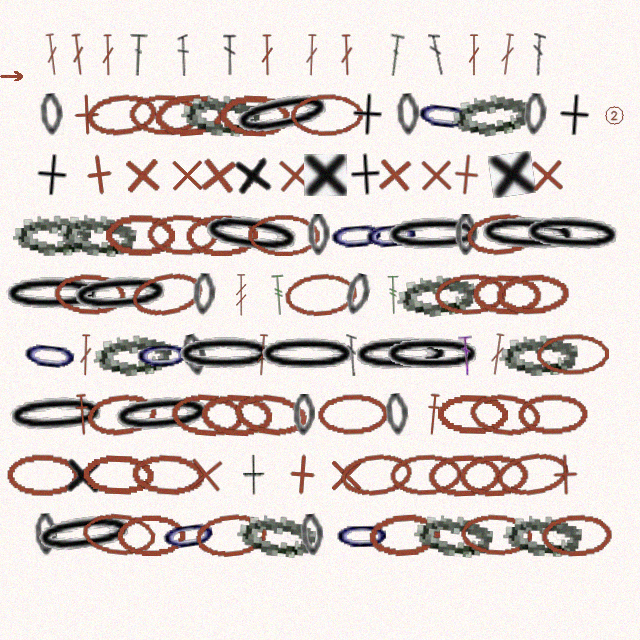chain: (227, 84, 338, 146), (197, 207, 306, 263), (30, 507, 139, 562), (108, 390, 216, 440), (67, 270, 174, 319), (3, 391, 110, 439), (519, 211, 626, 258), (475, 211, 581, 258), (381, 213, 487, 257), (349, 333, 454, 377), (0, 273, 105, 316), (173, 333, 278, 376), (255, 334, 360, 376), (380, 334, 485, 376), (449, 88, 532, 141), (128, 267, 207, 322), (395, 270, 477, 320), (494, 448, 571, 501), (231, 389, 309, 441), (92, 330, 173, 379), (236, 511, 317, 559), (413, 511, 494, 559), (338, 450, 415, 500), (193, 510, 270, 560), (84, 90, 160, 140), (84, 390, 160, 440), (80, 510, 157, 559), (57, 211, 137, 258), (467, 390, 542, 440), (464, 210, 540, 259), (169, 391, 245, 438), (181, 92, 260, 137), (499, 332, 578, 377), (283, 271, 358, 318), (152, 91, 226, 138), (367, 511, 441, 558), (503, 513, 582, 557), (130, 452, 205, 498), (459, 512, 533, 558), (13, 213, 91, 256), (53, 272, 127, 317), (433, 272, 507, 317), (495, 272, 569, 317), (199, 392, 273, 437), (427, 453, 501, 497), (81, 453, 154, 497), (389, 453, 462, 497), (290, 93, 364, 136), (128, 93, 200, 137), (218, 93, 290, 137), (146, 213, 218, 257), (471, 273, 543, 317), (458, 453, 530, 497), (540, 513, 612, 557), (536, 333, 609, 376), (6, 453, 79, 496), (157, 510, 221, 559), (247, 214, 321, 256), (436, 393, 508, 436), (517, 393, 589, 436), (185, 214, 258, 256), (104, 213, 175, 256), (317, 393, 388, 436), (413, 91, 476, 139), (19, 331, 82, 379), (116, 514, 187, 556), (361, 211, 423, 258), (326, 212, 388, 258), (133, 333, 193, 376), (333, 514, 392, 556), (179, 332, 210, 378), (342, 272, 373, 317), (299, 513, 325, 557), (384, 393, 410, 436), (39, 93, 64, 136), (396, 93, 420, 136), (523, 93, 547, 136), (192, 273, 216, 316), (34, 513, 58, 556), (307, 214, 330, 256), (455, 214, 477, 256), (293, 394, 315, 436)
double: (384, 33, 405, 76), (498, 33, 517, 76), (488, 333, 507, 376), (129, 34, 148, 76), (43, 33, 61, 76), (69, 33, 87, 76), (428, 33, 445, 76), (254, 334, 271, 376), (530, 33, 546, 76), (458, 334, 474, 376), (304, 34, 319, 76), (339, 34, 354, 76), (78, 334, 93, 376), (101, 34, 115, 76), (223, 34, 237, 76), (260, 34, 274, 76), (467, 34, 481, 76), (177, 34, 190, 76), (346, 334, 358, 376)
half_double: (73, 393, 92, 436), (424, 393, 443, 436)
noise: (603, 104, 625, 126), (0, 71, 25, 81)
single: (488, 151, 536, 198), (76, 151, 123, 198), (195, 152, 241, 198), (231, 151, 275, 198), (372, 152, 417, 197), (444, 152, 489, 197), (183, 452, 228, 497), (280, 452, 325, 497), (120, 153, 164, 197), (273, 153, 317, 197), (525, 153, 569, 197), (65, 93, 108, 136), (544, 453, 587, 496), (304, 154, 347, 196), (166, 154, 208, 196), (415, 154, 457, 196), (325, 454, 367, 496), (63, 453, 104, 496), (34, 153, 69, 197), (557, 93, 591, 137), (350, 93, 384, 136), (348, 153, 382, 196), (243, 454, 265, 496)
treble: (270, 274, 288, 316), (386, 274, 401, 316), (234, 274, 248, 316)
